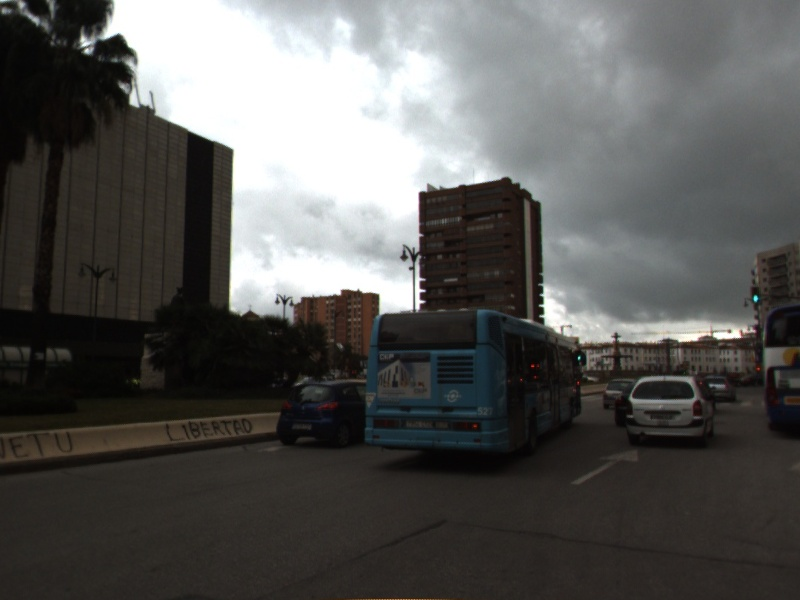STRAIGHT: (569, 448, 640, 487)
